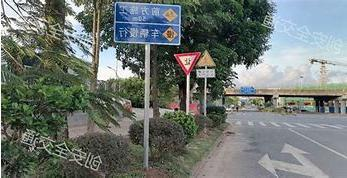sign: (115, 2, 181, 45)
